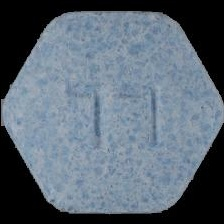68084-766: (0, 0, 224, 224)
